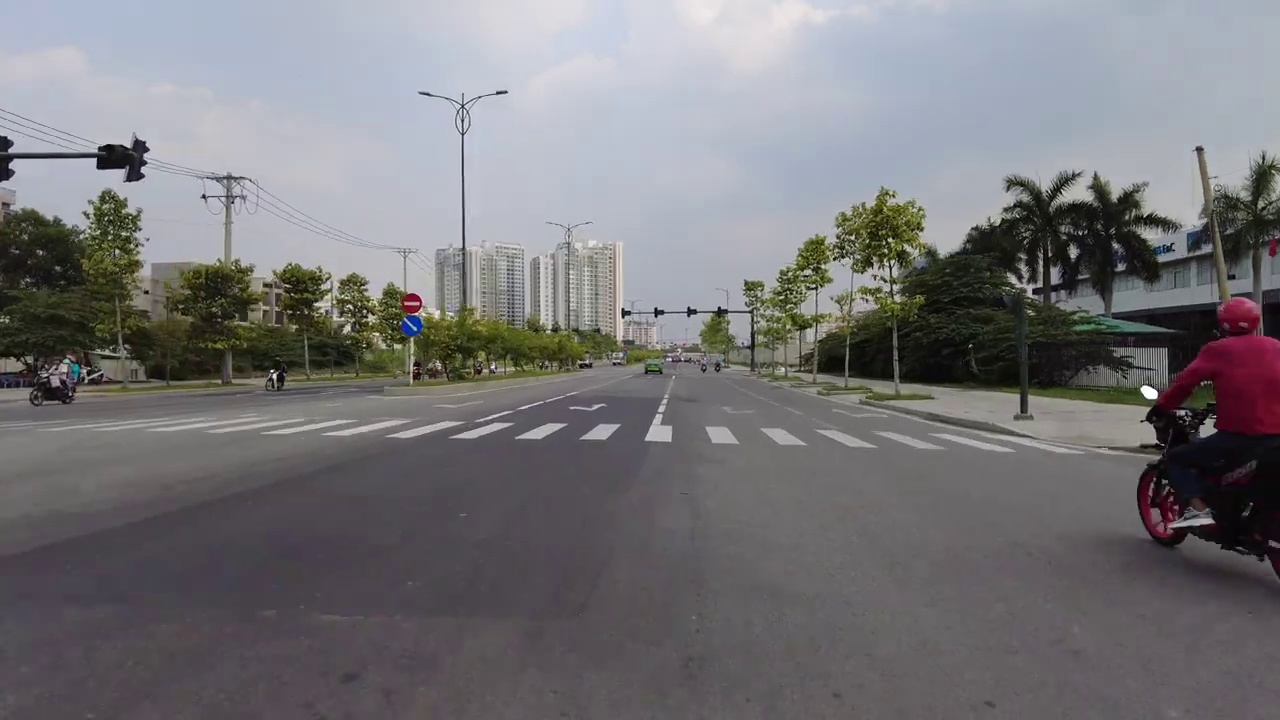cam_do_xe: (401, 292, 422, 313)
huong_phai_di_vong: (401, 315, 423, 336)
